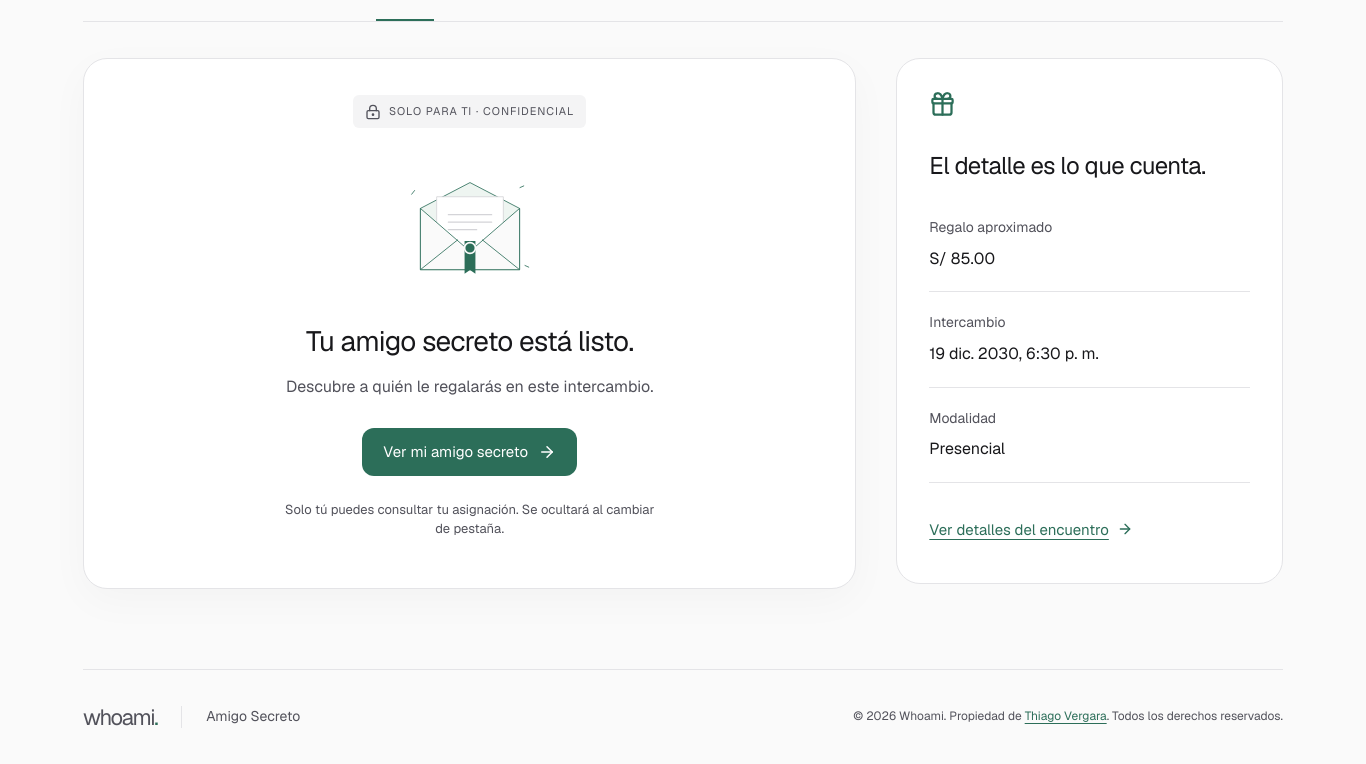
Scenario: Privacidad, deseos y correos › consulta el resultado solo al revelar y lo borra al ocultar
(page scrolled)
Expected: the text "Valeria Torres" is not shown
Click the button "Ver mi amigo secreto" at x=470, y=452, box [362,428,577,476]
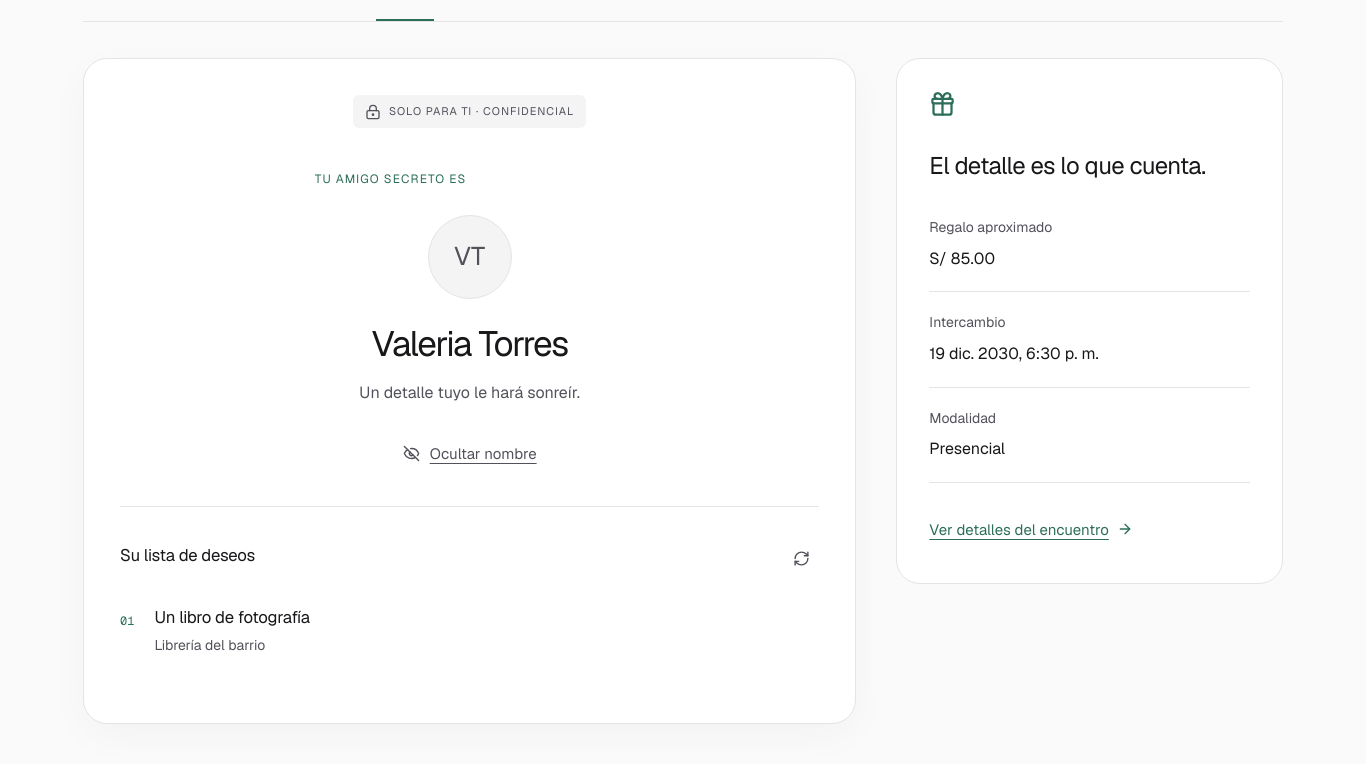
Expected: the heading "Valeria Torres" is shown, [371,321,568,366]
Expected: the heading "Un libro de fotografía" is shown, [154,606,310,628]
Click the button "Ocultar nombre" at x=470, y=454, box [394,430,546,478]
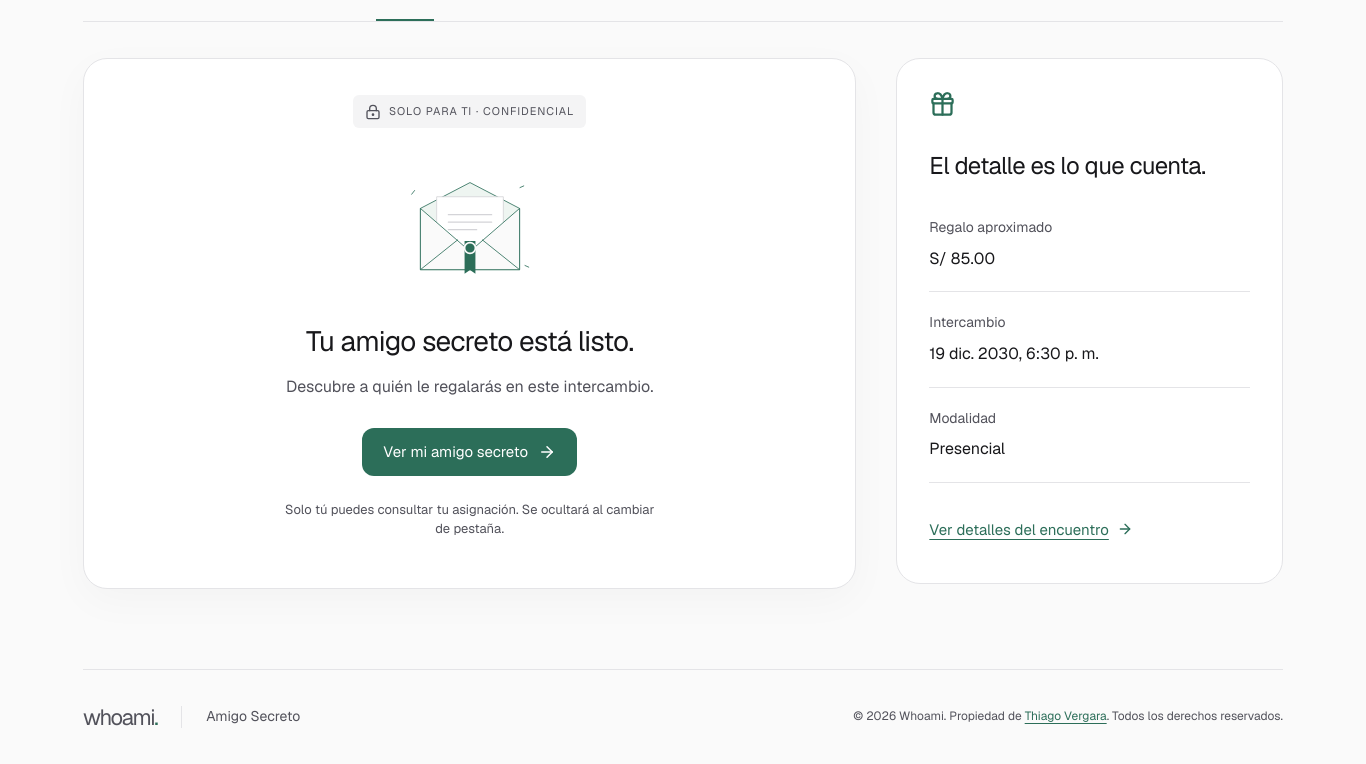
Expected: the heading "Valeria Torres" is gone
